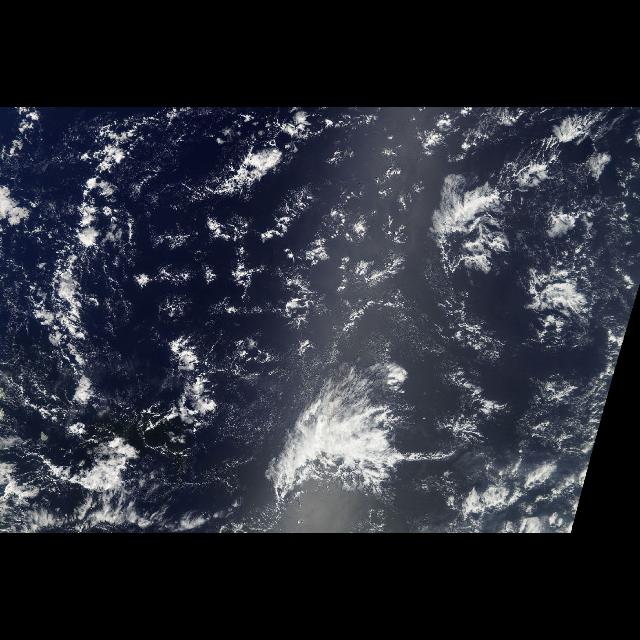Flower: (95, 120, 590, 372)
